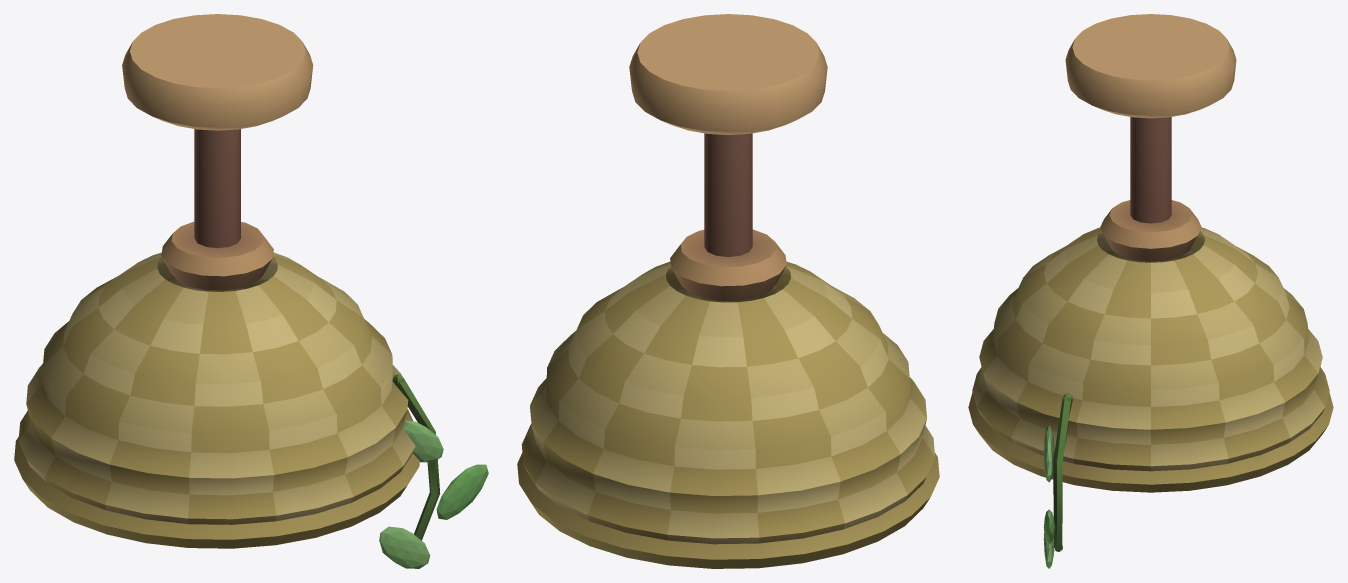
File: lamp_garden.glb
3 renders of one model, left to right at view 1: azimuth 30°, elevation 25°; view 2: azimuth 150°, elevation 25°; view 3: azimuth 270°, elevation 25°, orthographic. The views are drawn at different scales.
Parts seen in each view (by area): view 1: lamp_garden; view 2: lamp_garden; view 3: lamp_garden.
Part boxes in pixels (left/top/right/bottom): lamp_garden: left=14, top=14, right=488, bottom=568; lamp_garden: left=517, top=14, right=939, bottom=568; lamp_garden: left=968, top=14, right=1333, bottom=568.
Size of the model in its own units: 0.8741 by 1.09 by 0.79.
